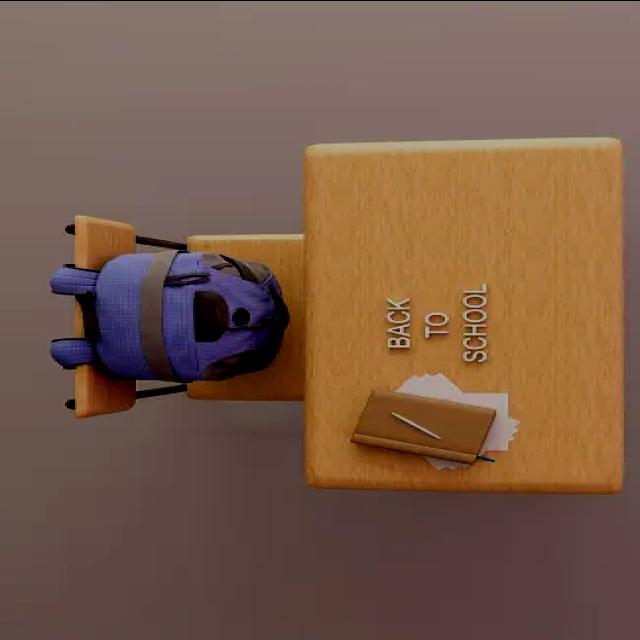backpack: (44, 239, 301, 402)
